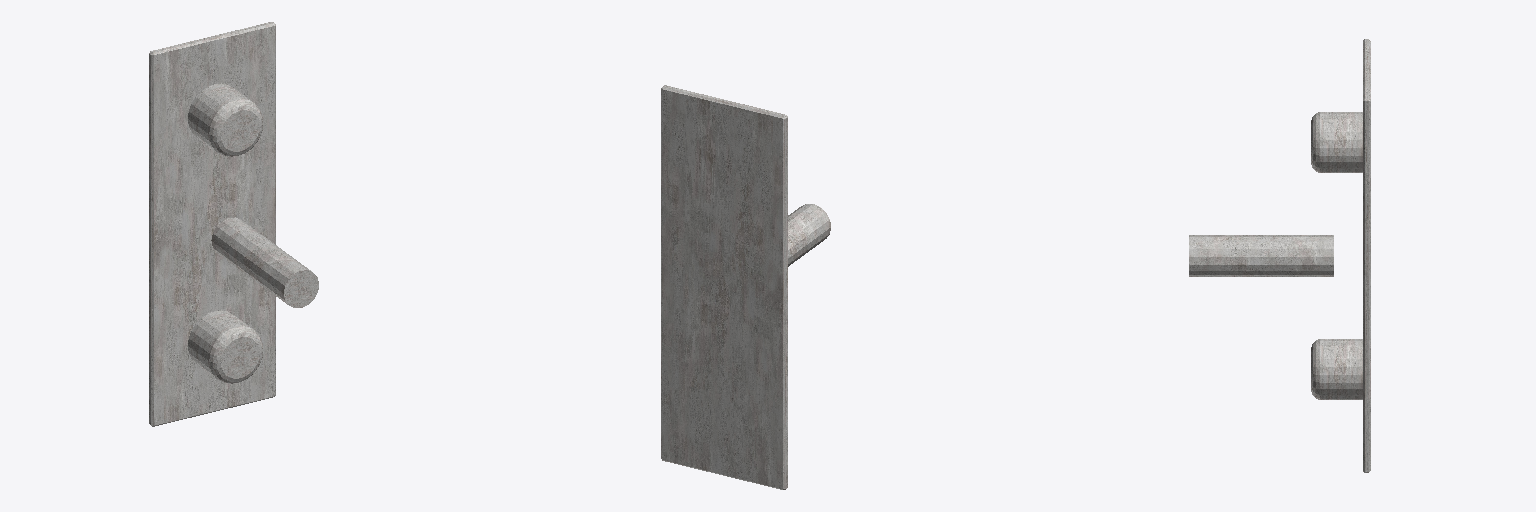
3 views of the same model, side by side, from view 1: azimuth 30°, elevation 25°; view 2: azimuth 150°, elevation 25°; view 3: azimuth 270°, elevation 25° (orthographic).
Bounding box in the file's own units: 0.35 × 1 × 0.4406.
Materials: 1 (1 with a texture image).